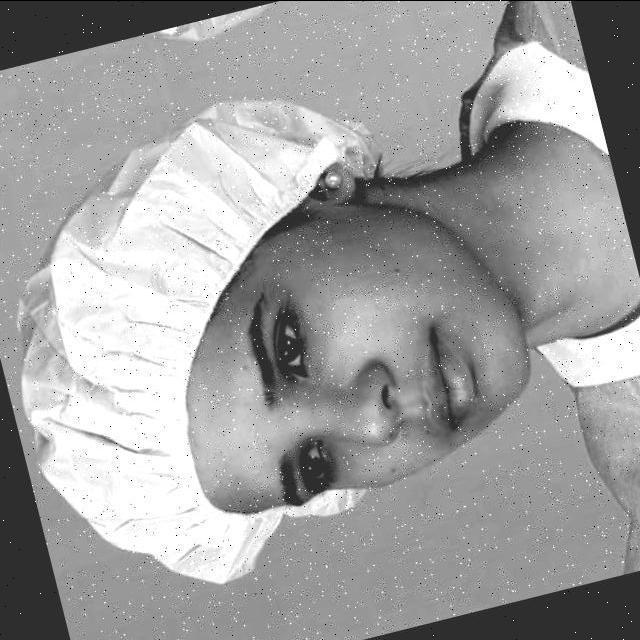gloves: (16, 142, 275, 564)
no_hairnet: (328, 298, 476, 468)
